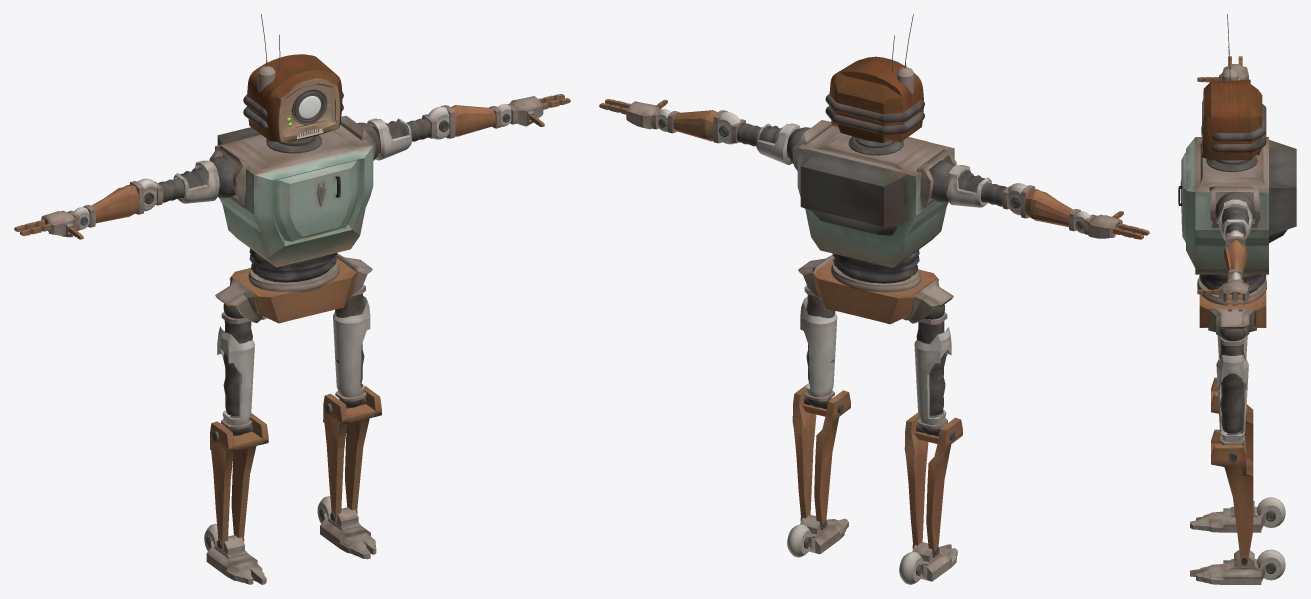
File: robotTextured_pass1.fbx
3 views of the same model, side by side, from view 1: azimuth 30°, elevation 25°; view 2: azimuth 150°, elevation 25°; view 3: azimuth 270°, elevation 25° (orthographic). The views are drawn at different scales.
Parts seen in each view (by area): view 1: robot; view 2: robot; view 3: robot.
Boxes of the visible parts, x1,y1,x2,y2 form: robot: (14, 14, 570, 584); robot: (599, 14, 1149, 584); robot: (1178, 14, 1296, 584).
Size of the model in its own units: 18.98 by 18.31 by 3.75.
7 materials, 7 textured.
